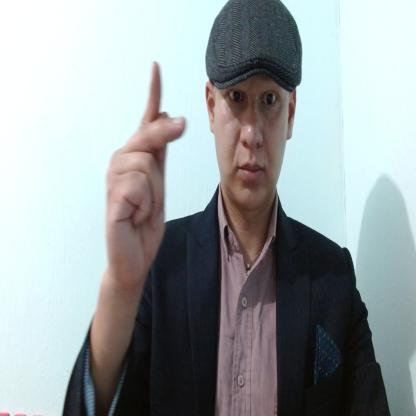P: (103, 58, 186, 293)
